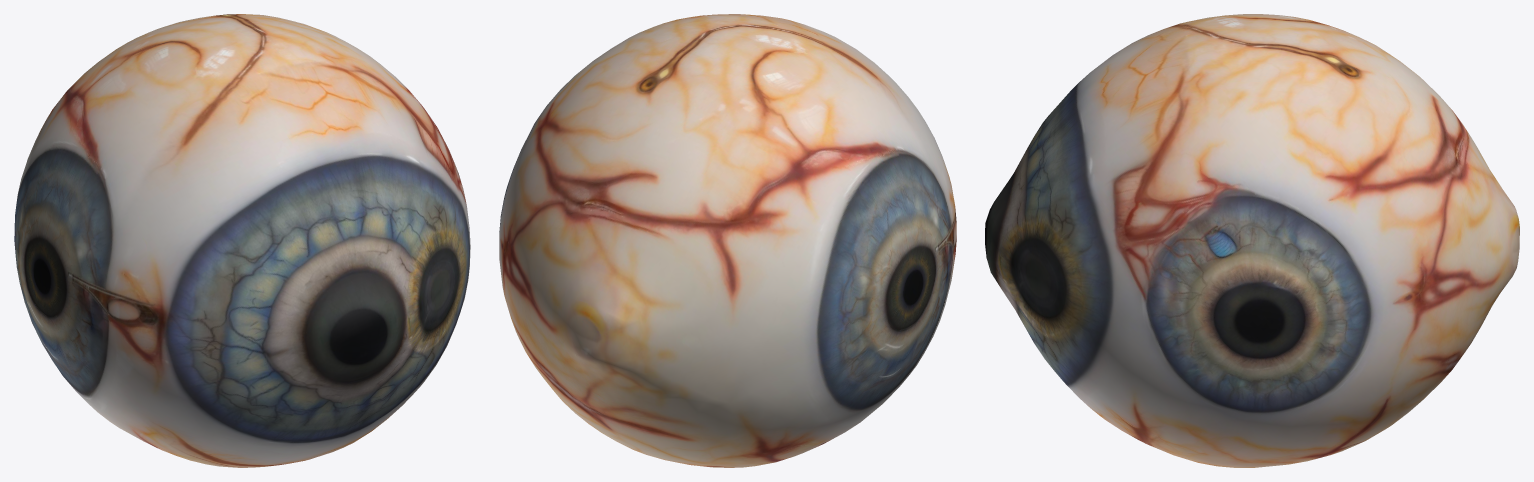
3 renders of one model, left to right at view 1: azimuth 30°, elevation 25°; view 2: azimuth 150°, elevation 25°; view 3: azimuth 270°, elevation 25°, orthographic.
Parts seen in each view (by area): view 1: Mesh1.0; view 2: Mesh1.0; view 3: Mesh1.0.
Part boxes in pixels (x1,y1,x2,y2): Mesh1.0: (14,14,470,467); Mesh1.0: (499,14,956,467); Mesh1.0: (985,14,1519,467).
Bounding box in the file's own units: 169 × 170 × 201.
1 material, 1 textured.
